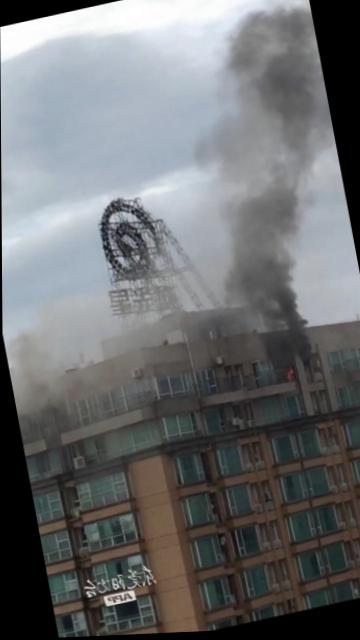smoke: (227, 7, 334, 187), (229, 189, 301, 263), (245, 259, 299, 326), (191, 121, 245, 174), (9, 331, 49, 391), (288, 322, 311, 351)
